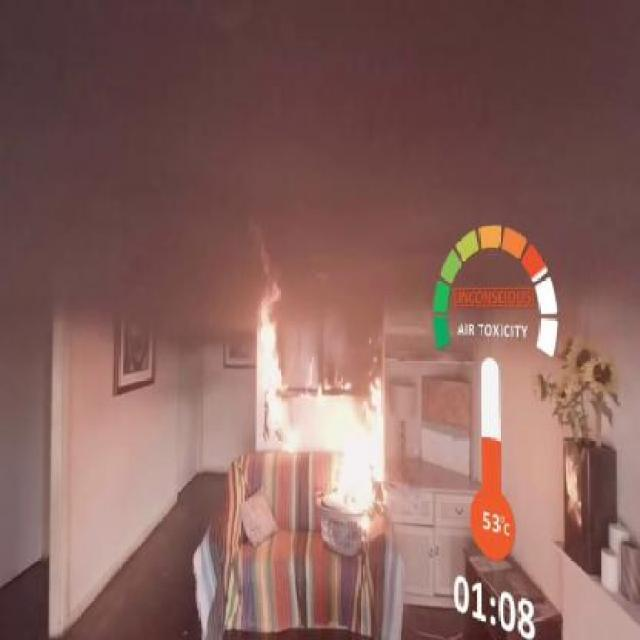fire: (322, 373, 395, 544), (245, 292, 302, 465)
smoke: (52, 34, 437, 311)
